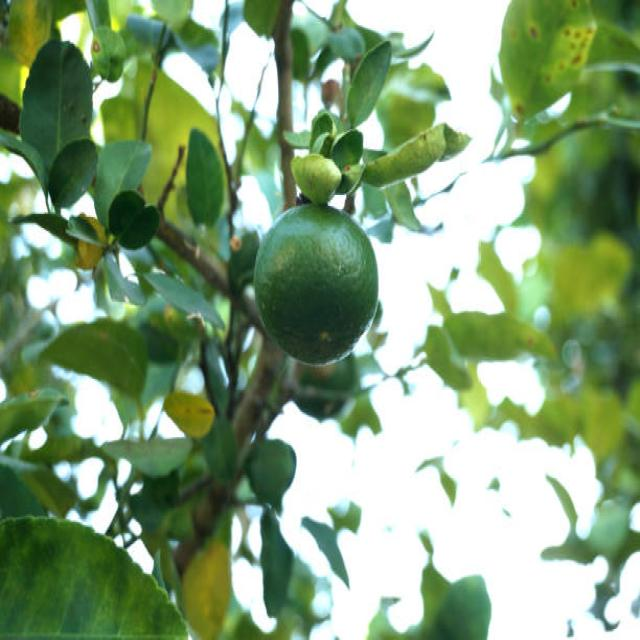Unripe: (253, 198, 380, 365)
